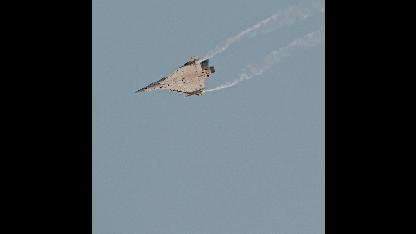Mirage2000: (132, 56, 214, 98)
